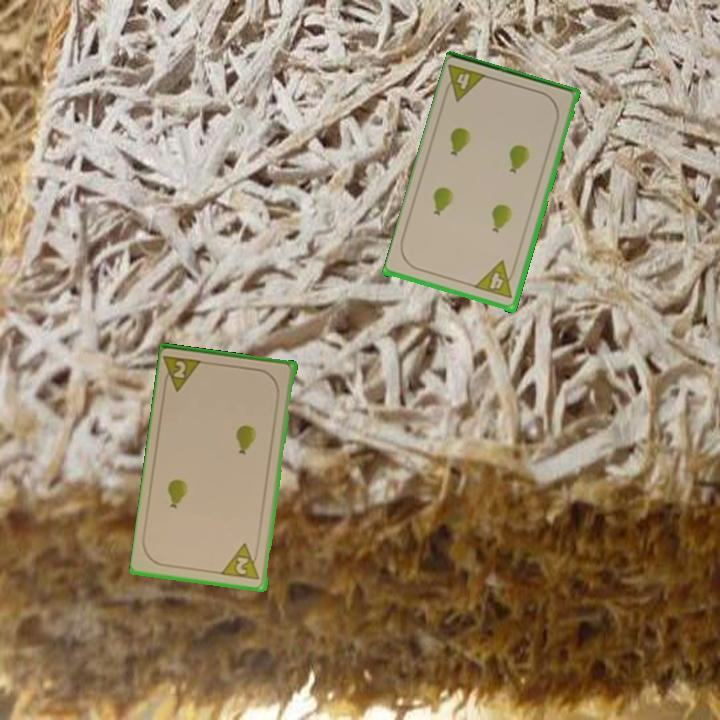2p: (160, 352, 207, 395), (220, 540, 263, 583)
4p: (440, 61, 491, 105), (472, 258, 519, 302)
